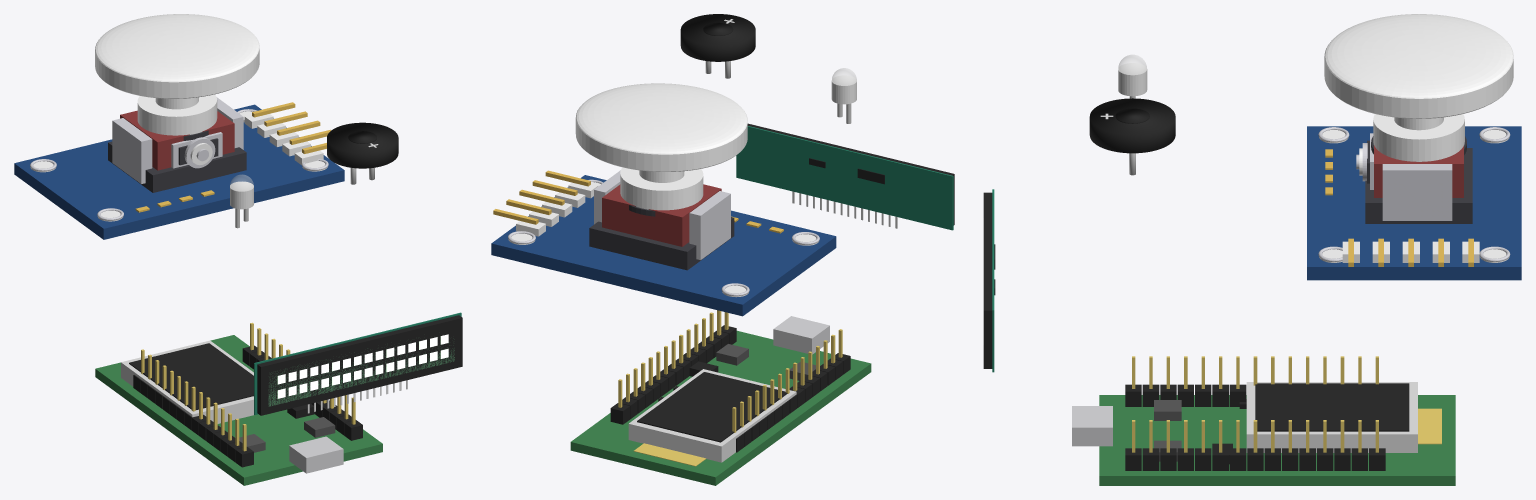
The model's file is 02_Electronics.glb.
The picture shows the model from 3 angles, left to right: view 1: azimuth 30°, elevation 25°; view 2: azimuth 150°, elevation 25°; view 3: azimuth 270°, elevation 25°; orthographic projection. The views are drawn at different scales.
Parts seen in each view (by area): view 1: PCB | main board, ESP32_Model_Scaled, LCD1602, Passive_Buzzer_Model, White_LED_Model; view 2: PCB | main board, ESP32_Model_Scaled, LCD1602, Passive_Buzzer_Model, White_LED_Model; view 3: PCB | main board, ESP32_Model_Scaled, Passive_Buzzer_Model, LCD1602, White_LED_Model.
Part boxes in pixels (bbox=[...]): PCB | main board: bbox=[14, 14, 344, 239]; ESP32_Model_Scaled: bbox=[95, 322, 382, 485]; LCD1602: bbox=[254, 312, 462, 415]; Passive_Buzzer_Model: bbox=[327, 122, 398, 184]; White_LED_Model: bbox=[230, 174, 253, 228]; PCB | main board: bbox=[491, 83, 836, 316]; ESP32_Model_Scaled: bbox=[570, 310, 871, 485]; LCD1602: bbox=[736, 123, 954, 230]; Passive_Buzzer_Model: bbox=[680, 14, 755, 78]; White_LED_Model: bbox=[831, 68, 856, 123]; PCB | main board: bbox=[1307, 14, 1521, 280]; ESP32_Model_Scaled: bbox=[1072, 356, 1455, 485]; Passive_Buzzer_Model: bbox=[1089, 98, 1175, 175]; LCD1602: bbox=[983, 189, 995, 372]; White_LED_Model: bbox=[1118, 55, 1147, 98].
Size of the model in its own units: 1.5 by 1.83 by 2.26.
